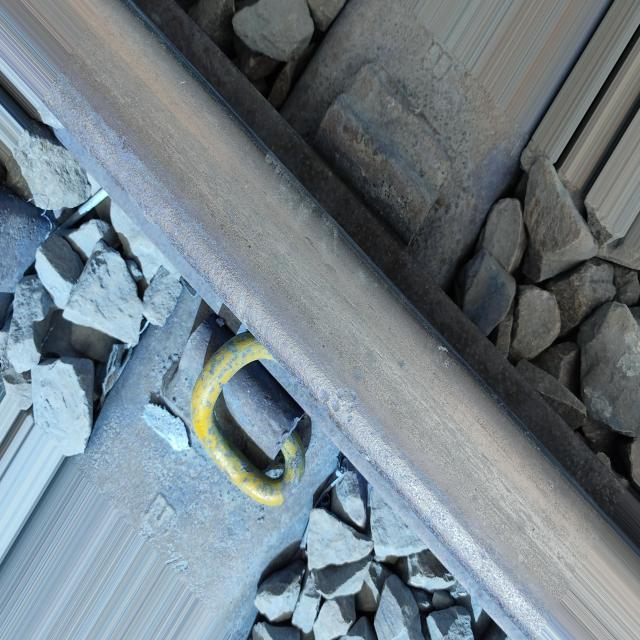broken_rail_medium: (319, 382, 355, 426), (439, 345, 451, 371)
